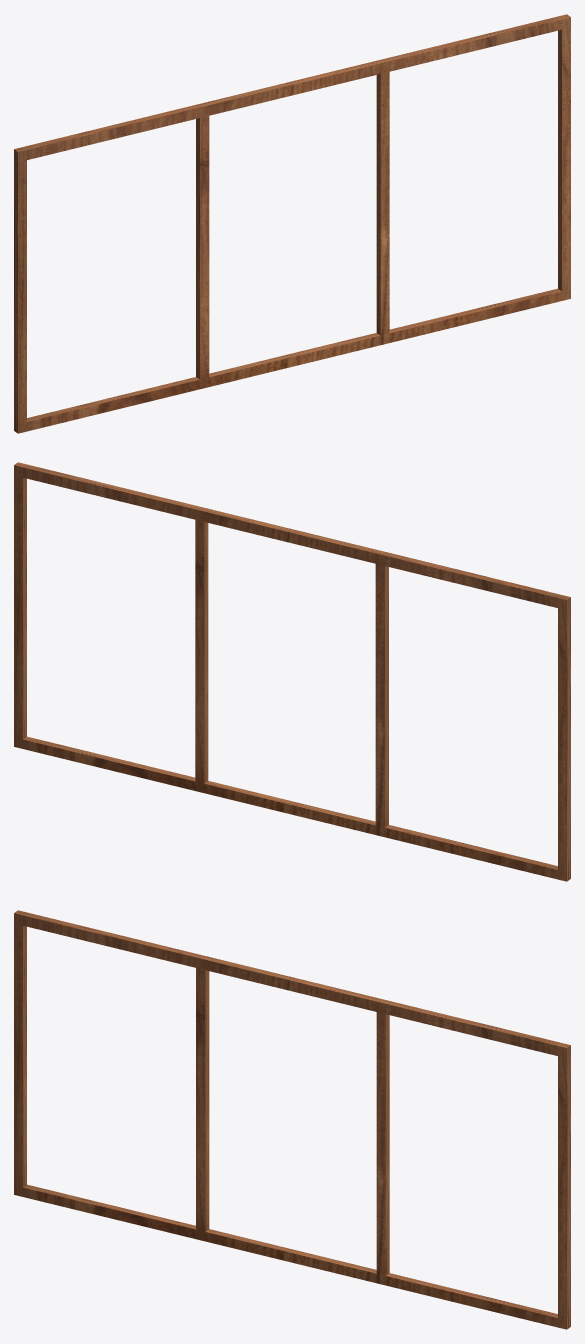
Rendered from Normal_Fractional.obj.
3 renders of one model, top to bottom at view 1: azimuth 30°, elevation 25°; view 2: azimuth 150°, elevation 25°; view 3: azimuth 330°, elevation 25°, orthographic.
Visible parts, largest first — view 1: Fractional; view 2: Fractional; view 3: Fractional.
Boxes of the visible parts, bbox=[...] form: Fractional: bbox=[14, 14, 570, 433]; Fractional: bbox=[14, 462, 570, 881]; Fractional: bbox=[14, 910, 570, 1329].
Bounding box in the file's own units: 8.47 × 4.12 × 0.1062.
Materials: 1 (1 with a texture image).
